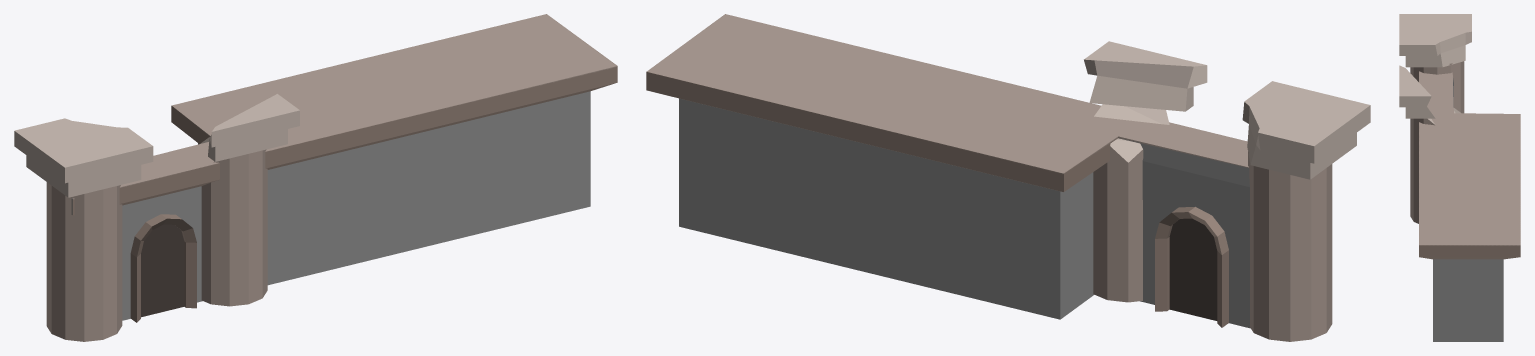
The model's file is Rempart.fbx.
3 renders of one model, left to right at view 1: azimuth 30°, elevation 25°; view 2: azimuth 150°, elevation 25°; view 3: azimuth 270°, elevation 25°, orthographic. The views are drawn at different scales.
Visible parts, largest first — view 1: Rempart; view 2: Rempart; view 3: Rempart.
Boxes of the visible parts, left/top/right/bottom form: Rempart: left=14, top=14, right=617, bottom=341; Rempart: left=646, top=14, right=1370, bottom=341; Rempart: left=1399, top=14, right=1520, bottom=341.
Bounding box in the file's own units: 132 × 42.33 × 34.18.
